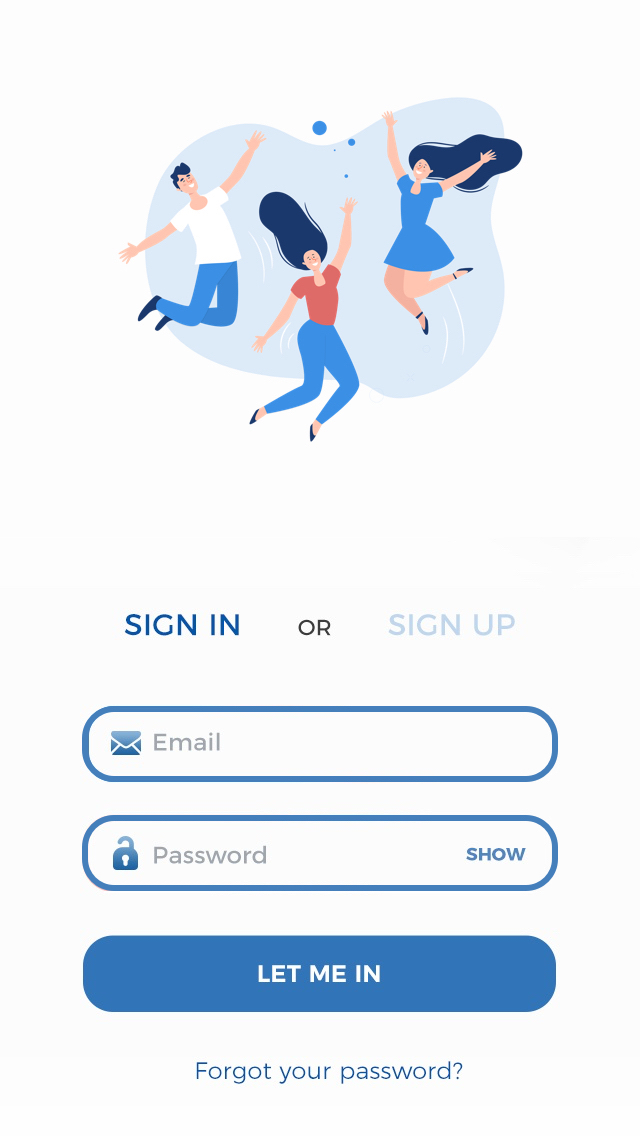EditText: (82, 815, 559, 892), (83, 706, 559, 783)
Icon: (113, 836, 139, 871), (111, 731, 142, 756)
Image: (118, 98, 523, 444)
Text: (197, 1061, 463, 1084), (389, 613, 516, 636), (125, 614, 240, 636), (154, 845, 267, 865), (154, 731, 221, 752), (466, 848, 526, 862), (298, 619, 331, 636)
TextButton: (83, 935, 556, 1013)
